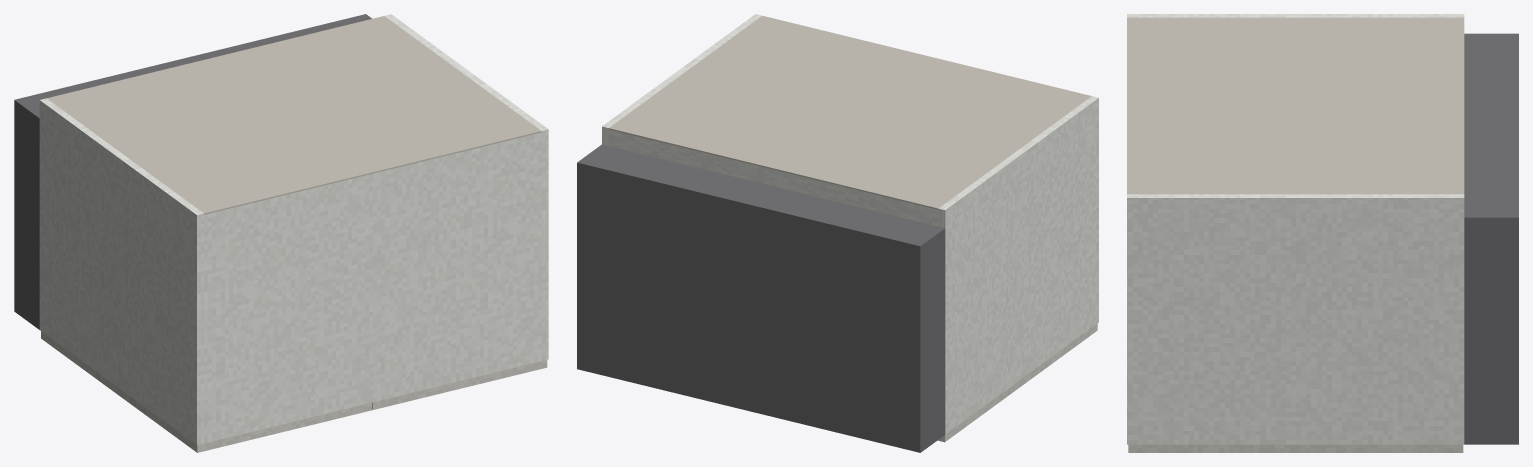
The model's file is base_800_double.obj.
The picture shows the model from 3 angles, left to right: view 1: azimuth 30°, elevation 25°; view 2: azimuth 150°, elevation 25°; view 3: azimuth 270°, elevation 25°; orthographic projection. The views are drawn at different scales.
Visible parts, largest first — view 1: krysha, zadnyaya_stenka, bokovina_levaya, cokol, bokovina_pravaya, fasad_1, fasad_2; view 2: cokol, zadnyaya_stenka, bokovina_levaya, dno, bokovina_pravaya, fasad_1; view 3: bokovina_pravaya, zadnyaya_stenka, cokol, fasad_2, bokovina_levaya.
Part boxes in pixels (x1=…): krysha: x1=204, y1=132, x2=541, y2=443; zadnyaya_stenka: x1=47, y1=16, x2=541, y2=214; bokovina_levaya: x1=39, y1=98, x2=203, y2=445; cokol: x1=14, y1=14, x2=371, y2=329; bokovina_pravaya: x1=385, y1=14, x2=548, y2=360; fasad_1: x1=41, y1=331, x2=371, y2=452; fasad_2: x1=372, y1=360, x2=547, y2=409; cokol: x1=577, y1=144, x2=945, y2=452; zadnyaya_stenka: x1=608, y1=15, x2=1091, y2=209; bokovina_levaya: x1=938, y1=96, x2=1098, y2=434; dno: x1=608, y1=129, x2=938, y2=226; bokovina_pravaya: x1=602, y1=14, x2=761, y2=145; fasad_1: x1=938, y1=323, x2=1097, y2=442; bokovina_pravaya: x1=1127, y1=194, x2=1464, y2=444; zadnyaya_stenka: x1=1127, y1=17, x2=1464, y2=194; cokol: x1=1464, y1=33, x2=1518, y2=444; fasad_2: x1=1128, y1=444, x2=1463, y2=452; bokovina_levaya: x1=1127, y1=14, x2=1464, y2=17.
Bounding box in the file's own units: 800 × 518 × 720.
